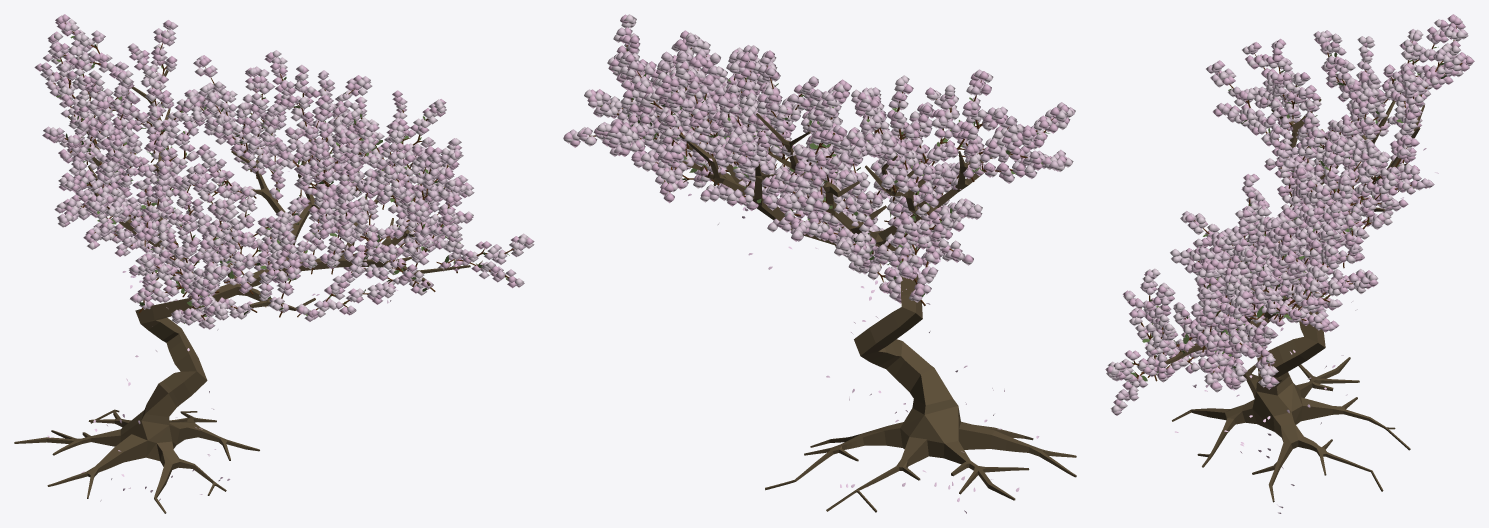
The model's file is sakura-tree-mid.glb.
3 views of the same model, side by side, from view 1: azimuth 30°, elevation 25°; view 2: azimuth 150°, elevation 25°; view 3: azimuth 270°, elevation 25° (orthographic). The views are drawn at different scales.
Parts seen in each view (by area): view 1: Cube.008; view 2: Cube.008; view 3: Cube.008.
Part boxes in pixels (left/top/right/bottom): Cube.008: left=14, top=14, right=534, bottom=513; Cube.008: left=563, top=14, right=1076, bottom=513; Cube.008: left=1105, top=14, right=1474, bottom=513.
Size of the model in its own units: 7 by 6.64 by 4.88.
